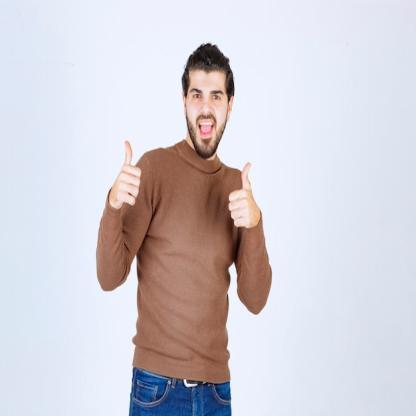thumb_up: (112, 138, 144, 210), (226, 154, 258, 226)
